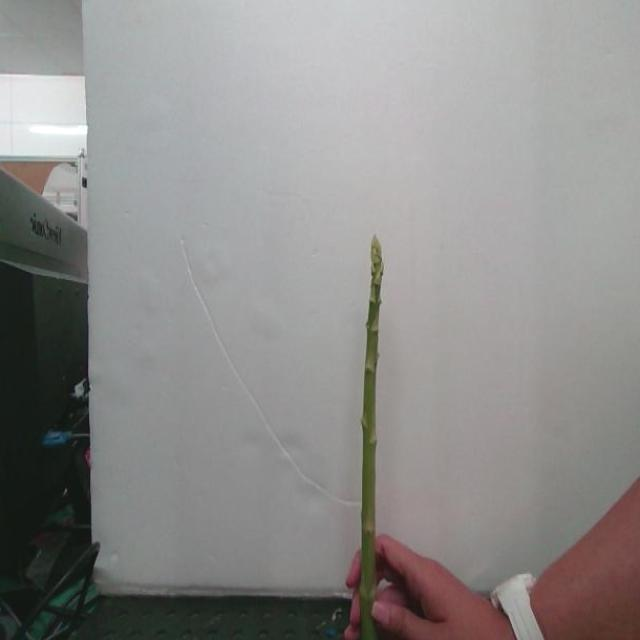aspargus: (344, 240, 385, 640)
